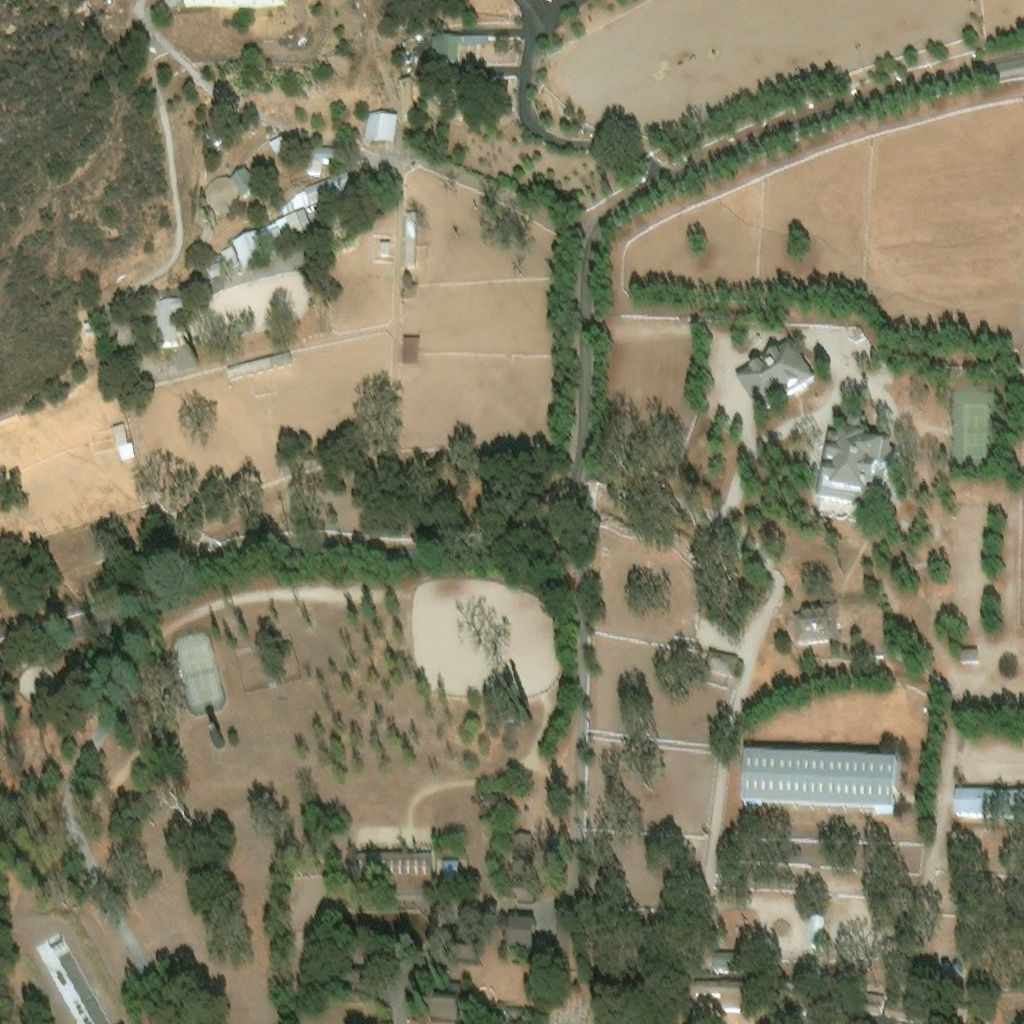0 no-damage: (744, 749, 902, 815), (818, 415, 899, 508), (738, 337, 818, 414), (356, 852, 433, 893), (258, 207, 317, 255), (203, 166, 260, 214), (955, 788, 1023, 820), (795, 603, 843, 644), (227, 354, 294, 381), (202, 110, 245, 152), (430, 34, 489, 63), (697, 981, 748, 1014), (305, 170, 353, 204), (231, 228, 270, 269), (157, 296, 190, 343), (426, 982, 462, 1020), (204, 244, 241, 278), (714, 952, 771, 972), (363, 111, 398, 141), (508, 917, 536, 951), (705, 651, 740, 678), (113, 423, 137, 461), (885, 1000, 921, 1023), (187, 0, 289, 8), (557, 916, 576, 958), (397, 75, 415, 119), (307, 148, 335, 176), (281, 189, 310, 216), (406, 211, 417, 267), (808, 916, 826, 950), (859, 994, 886, 1016), (450, 944, 478, 962), (481, 795, 507, 813), (511, 882, 532, 903), (404, 336, 419, 365), (269, 134, 289, 154), (510, 835, 532, 852), (444, 860, 461, 879), (514, 862, 534, 878), (961, 650, 981, 664), (81, 318, 93, 336), (214, 729, 224, 748), (381, 240, 391, 256), (944, 964, 952, 973), (955, 964, 962, 974)
